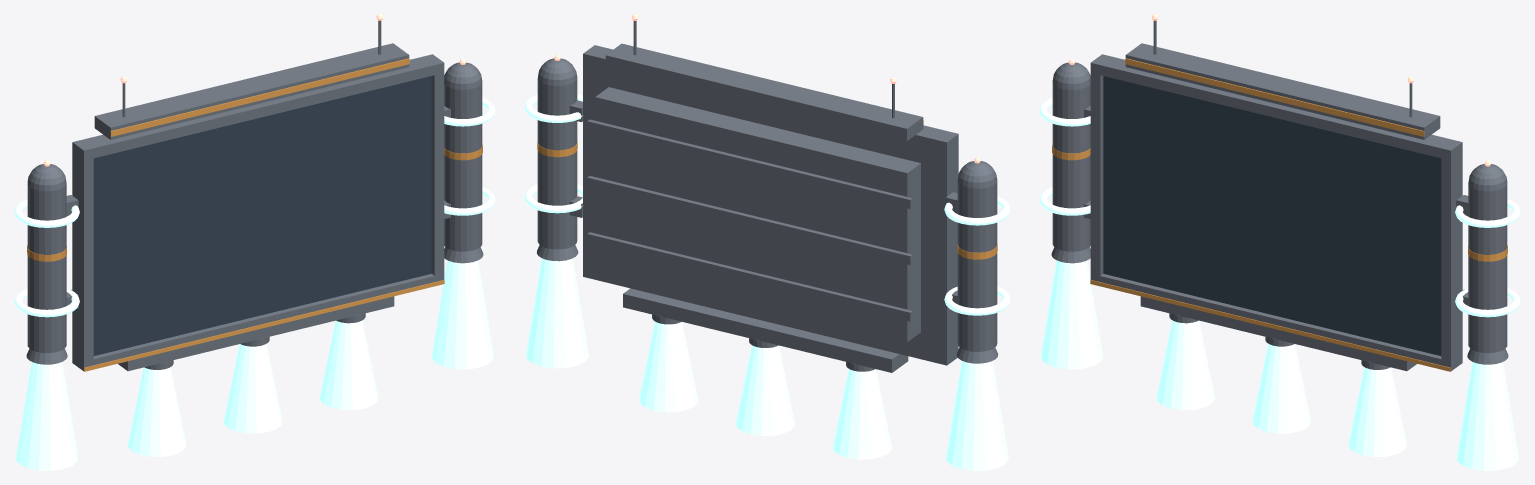
The model's file is hoverscreen.glb.
The picture shows the model from 3 angles, left to right: view 1: azimuth 30°, elevation 25°; view 2: azimuth 150°, elevation 25°; view 3: azimuth 330°, elevation 25°; orthographic projection.
Parts seen in each view (by area): view 1: screen, frame, beams, trim, lift; view 2: frame, beams, lift, trim; view 3: screen, frame, beams, trim, lift.
Boxes of the visible parts, x1,y1,x2,y2 form: screen: (93, 76, 431, 355); frame: (26, 20, 483, 371); beams: (16, 260, 493, 470); trim: (27, 58, 482, 371); lift: (14, 97, 495, 317); frame: (537, 21, 998, 372); beams: (526, 258, 1008, 470); lift: (524, 94, 1010, 315); trim: (537, 120, 997, 259); screen: (1103, 76, 1441, 355); frame: (1051, 20, 1508, 371); beams: (1041, 260, 1518, 470); trim: (1052, 58, 1507, 371); lift: (1039, 97, 1520, 317).
Bounding box in the file's own units: 44.34 × 33.62 × 5.67.
